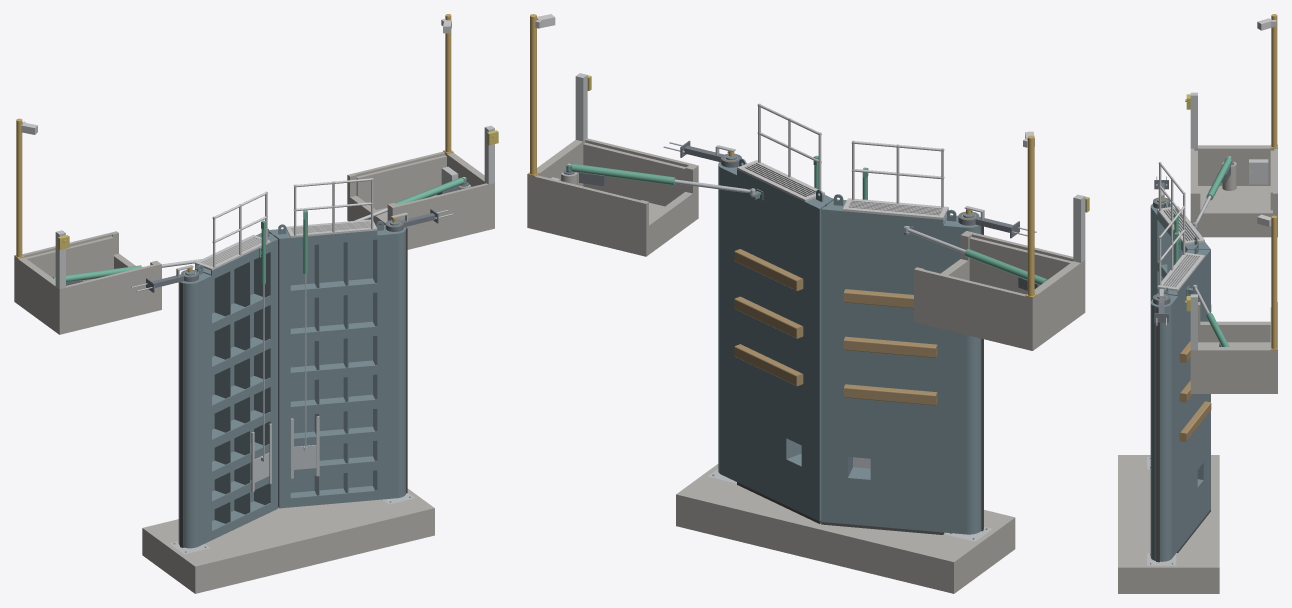
The model's file is step_07.glb.
The picture shows the model from 3 angles, left to right: view 1: azimuth 30°, elevation 25°; view 2: azimuth 150°, elevation 25°; view 3: azimuth 270°, elevation 25°; orthographic projection. The views are drawn at different scales.
Parts seen in each view (by area): view 1: part__cill, part__right skin plate, part__left inspection chamber, part__right inspection chamber, part__right heel post, part__left heel post, part__left mitre post, part__right mitre post, part__left stiffener 2, part__left stiffener 1, part__left skin plate, part__right girder 1 (+23 smaller); view 2: part__left skin plate, part__right skin plate, part__cill, part__right inspection chamber, part__left inspection chamber, part__left heel post, part__left mitre post, part__right heel post, part__right mitre post, part__left walkway grating, part__left oak fender 1, part__left oak fender 2 (+12 smaller); view 3: part__cill, part__left inspection chamber, part__right heel post, part__right inspection chamber, part__right skin plate, part__right mitre post, part__left heel post, part__right heel seal, part__right CCTV mast, part__left CCTV mast, part__right walkway grating, part__left walkway grating (+9 smaller).
Part boxes in pixels (<box>): part__cill: <box>142,488,434,593</box>; part__right skin plate: <box>290,240,372,492</box>; part__left inspection chamber: <box>14,231,161,334</box>; part__right inspection chamber: <box>347,151,494,249</box>; part__right heel post: <box>373,220,405,499</box>; part__left heel post: <box>178,269,211,548</box>; part__left mitre post: <box>254,233,277,511</box>; part__right mitre post: <box>269,229,290,508</box>; part__left stiffener 2: <box>234,261,250,514</box>; part__left stiffener 1: <box>214,271,230,523</box>; part__left skin plate: <box>195,260,253,520</box>; part__right girder 1: <box>290,486,377,507</box>; part__left skin plate: <box>842,211,943,532</box>; part__right skin plate: <box>737,169,805,514</box>; part__cill: <box>676,464,1015,593</box>; part__right inspection chamber: <box>527,138,698,256</box>; part__left inspection chamber: <box>914,231,1085,350</box>; part__left heel post: <box>943,212,981,534</box>; part__left mitre post: <box>821,199,846,523</box>; part__right heel post: <box>718,154,743,481</box>; part__right mitre post: <box>805,195,833,521</box>; part__left walkway grating: <box>842,198,948,219</box>; part__left oak fender 1: <box>843,384,937,405</box>; part__left oak fender 2: <box>843,336,937,357</box>; part__cill: <box>1118,455,1219,593</box>; part__left inspection chamber: <box>1190,145,1277,237</box>; part__right heel post: <box>1150,293,1177,561</box>; part__right inspection chamber: <box>1190,302,1277,393</box>; part__right skin plate: <box>1177,258,1204,550</box>; part__right mitre post: <box>1186,250,1210,516</box>; part__left heel post: <box>1150,198,1170,301</box>; part__right heel seal: <box>1156,306,1159,562</box>; part__right CCTV mast: <box>1270,215,1277,350</box>; part__left CCTV mast: <box>1270,14,1277,148</box>; part__right walkway grating: <box>1157,252,1204,291</box>; part__left walkway grating: <box>1157,206,1204,244</box>.
Bounding box in the file's own units: 10068 × 9600 × 3300.
